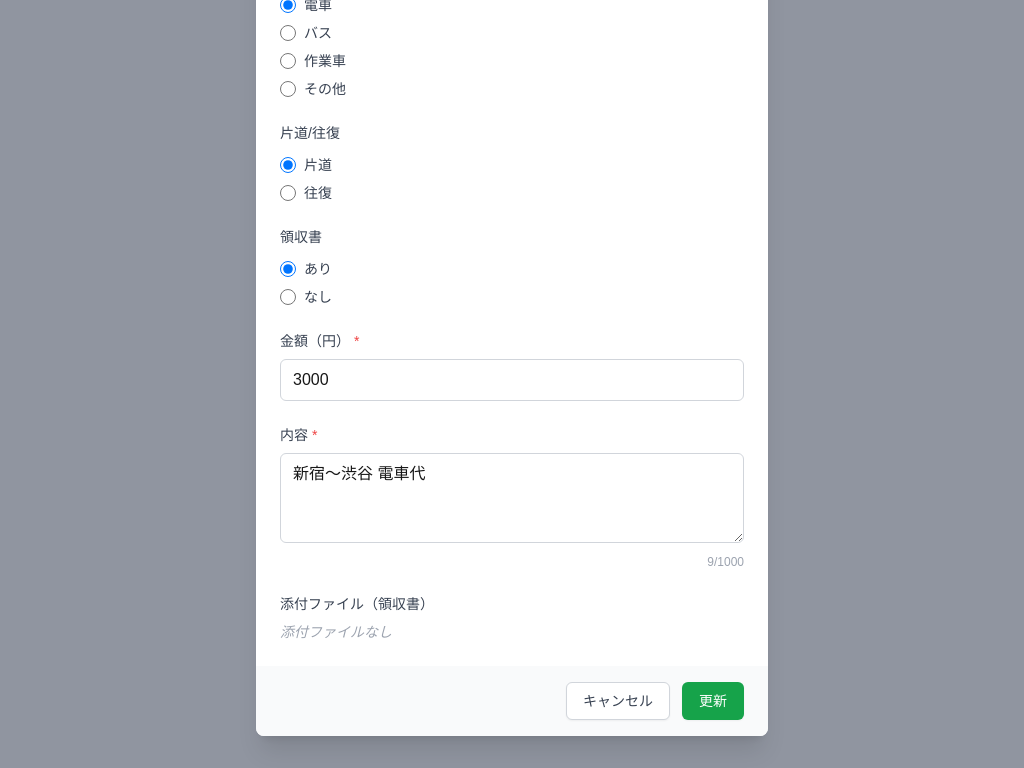
Test: ExpenseModal — 開閉 › 送信中はキャンセルボタンが無効化される
(page scrolled)
# 更新ボタン押下（バリデーションを通過させるため編集モードのデータを使用）
Click the button "更新".
click(713, 701)  # box [682, 682, 744, 720]
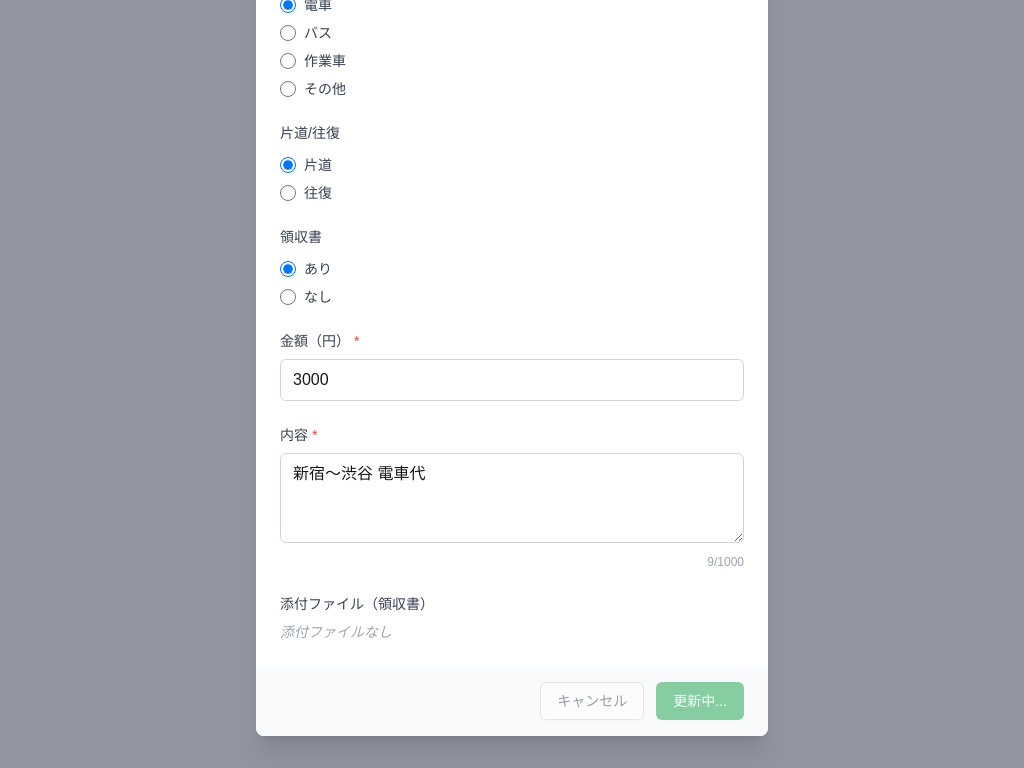
Expected: the button "キャンセル" is disabled, [540, 682, 644, 720]
